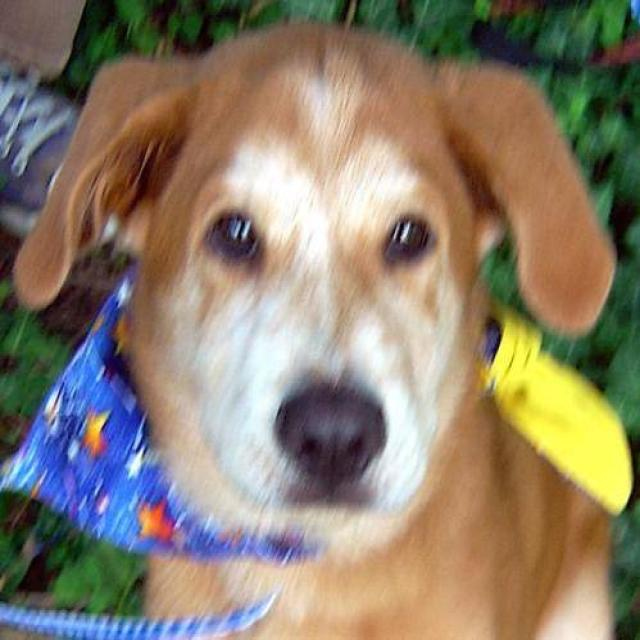dog: (9, 18, 627, 639)
